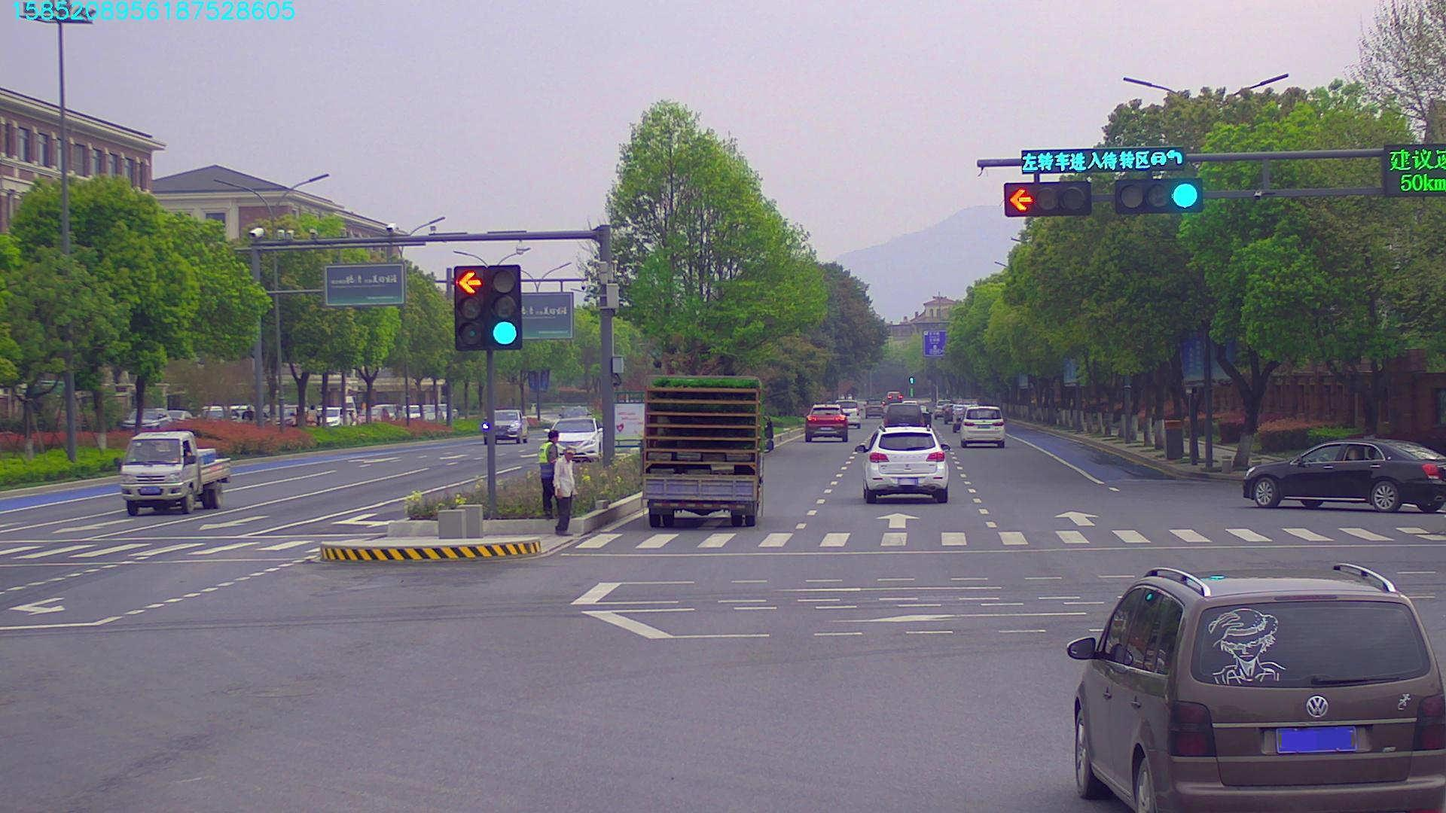green: (1117, 179, 1207, 211)
red: (999, 182, 1088, 220)
wait_on: (1017, 148, 1189, 175)
